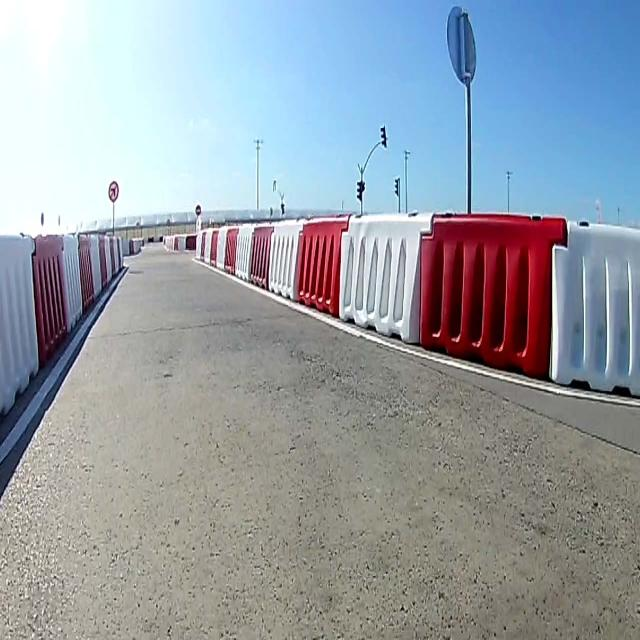soladonulmez: (109, 180, 119, 202)
